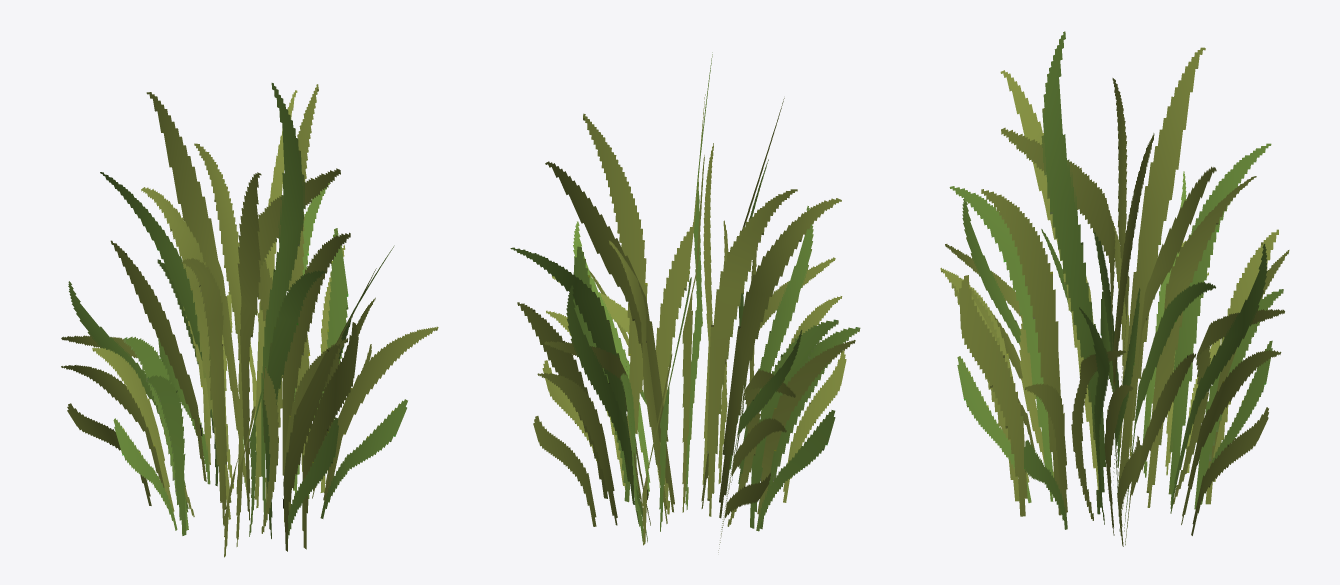
Rendered from Long_Grass_Patch_1.gltf.
3 views of the same model, side by side, from view 1: azimuth 30°, elevation 25°; view 2: azimuth 150°, elevation 25°; view 3: azimuth 270°, elevation 25° (orthographic). The views are drawn at different scales.
Parts seen in each view (by area): view 1: Long_Grass_Patch_1; view 2: Long_Grass_Patch_1; view 3: Long_Grass_Patch_1.
Part boxes in pixels (x1,y1,x2,y2): Long_Grass_Patch_1: (61,83,438,557); Long_Grass_Patch_1: (510,52,860,552); Long_Grass_Patch_1: (940,31,1289,546).
Size of the model in its own units: 37.95 by 48.56 by 37.77.
Materials: 1 (1 with a texture image).
